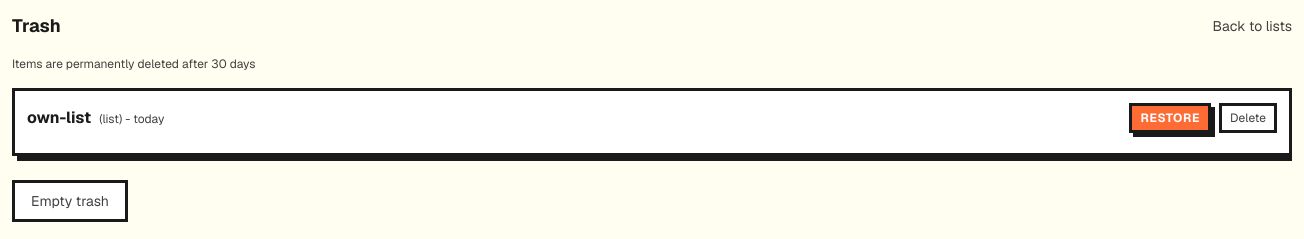
Test: TrashView › removes list from UI when restore succeeds
This screenshot has width=1304, height=239.
expect the text "own-list" is shown: met, box x1=27 y1=107 x2=91 y2=128
Step 1. Click the button "Restore" → click(1170, 118), box x1=1129 y1=103 x2=1211 y2=133
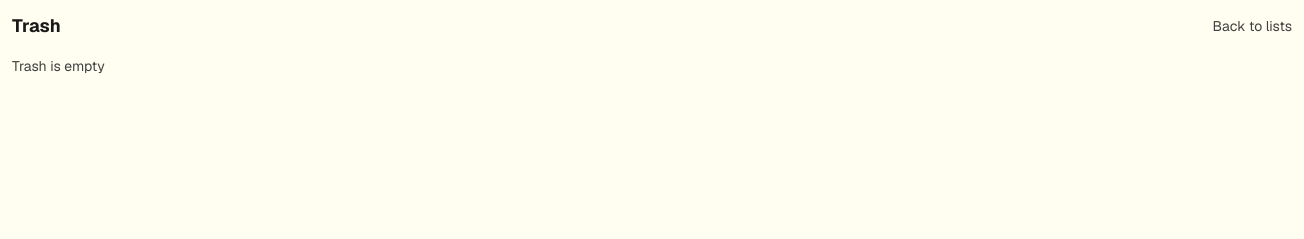
expect the text "own-list" is gone: met
